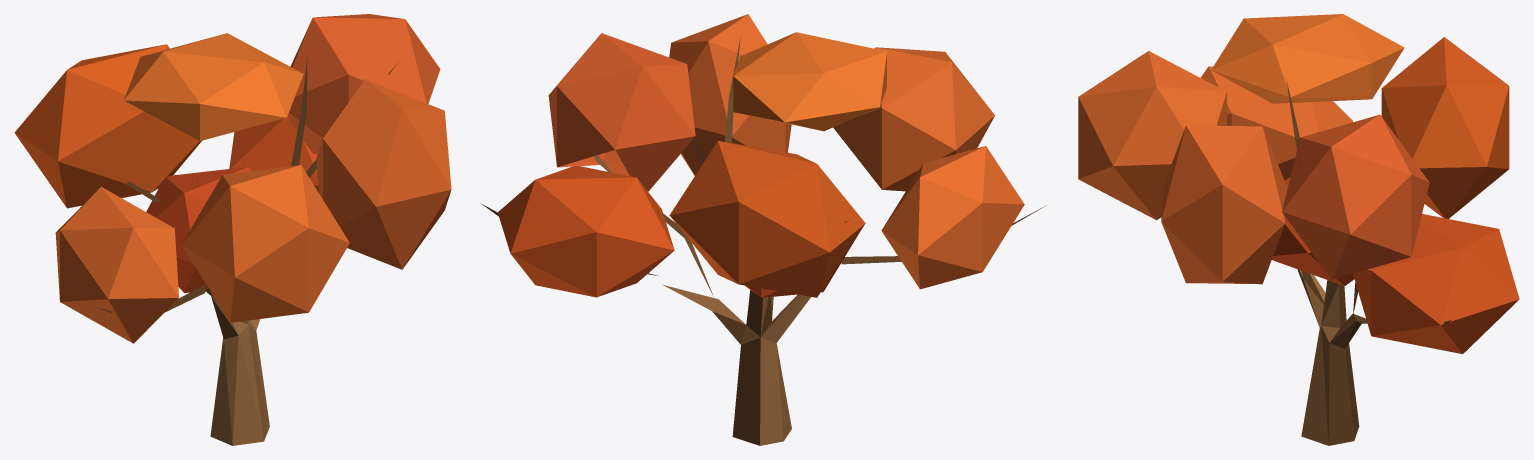
Rendered from maple_bloom_far.glb.
3 views of the same model, side by side, from view 1: azimuth 30°, elevation 25°; view 2: azimuth 150°, elevation 25°; view 3: azimuth 270°, elevation 25° (orthographic). The views are drawn at different scales.
Parts seen in each view (by area): view 1: maple_bloom_far; view 2: maple_bloom_far; view 3: maple_bloom_far.
Boxes of the visible parts, x1,y1,x2,y2 form: maple_bloom_far: (14,14,451,445); maple_bloom_far: (482,14,1045,445); maple_bloom_far: (1078,14,1519,445).
Size of the model in its own units: 7.62 by 6.35 by 6.6.
